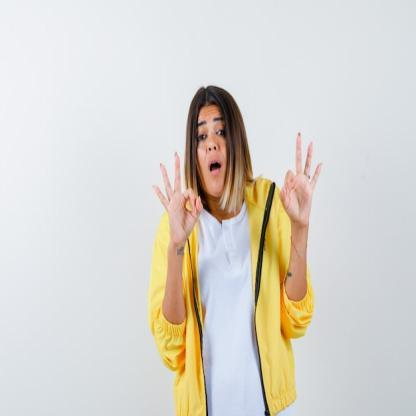ok: (150, 150, 205, 250), (276, 125, 326, 227)
